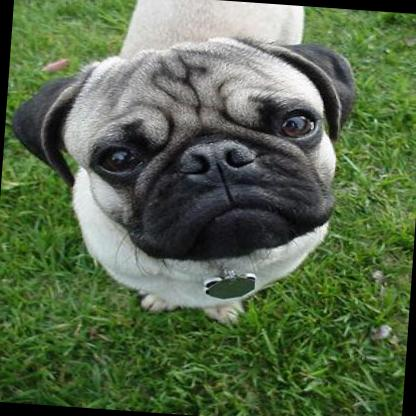pug: (0, 0, 351, 330)
